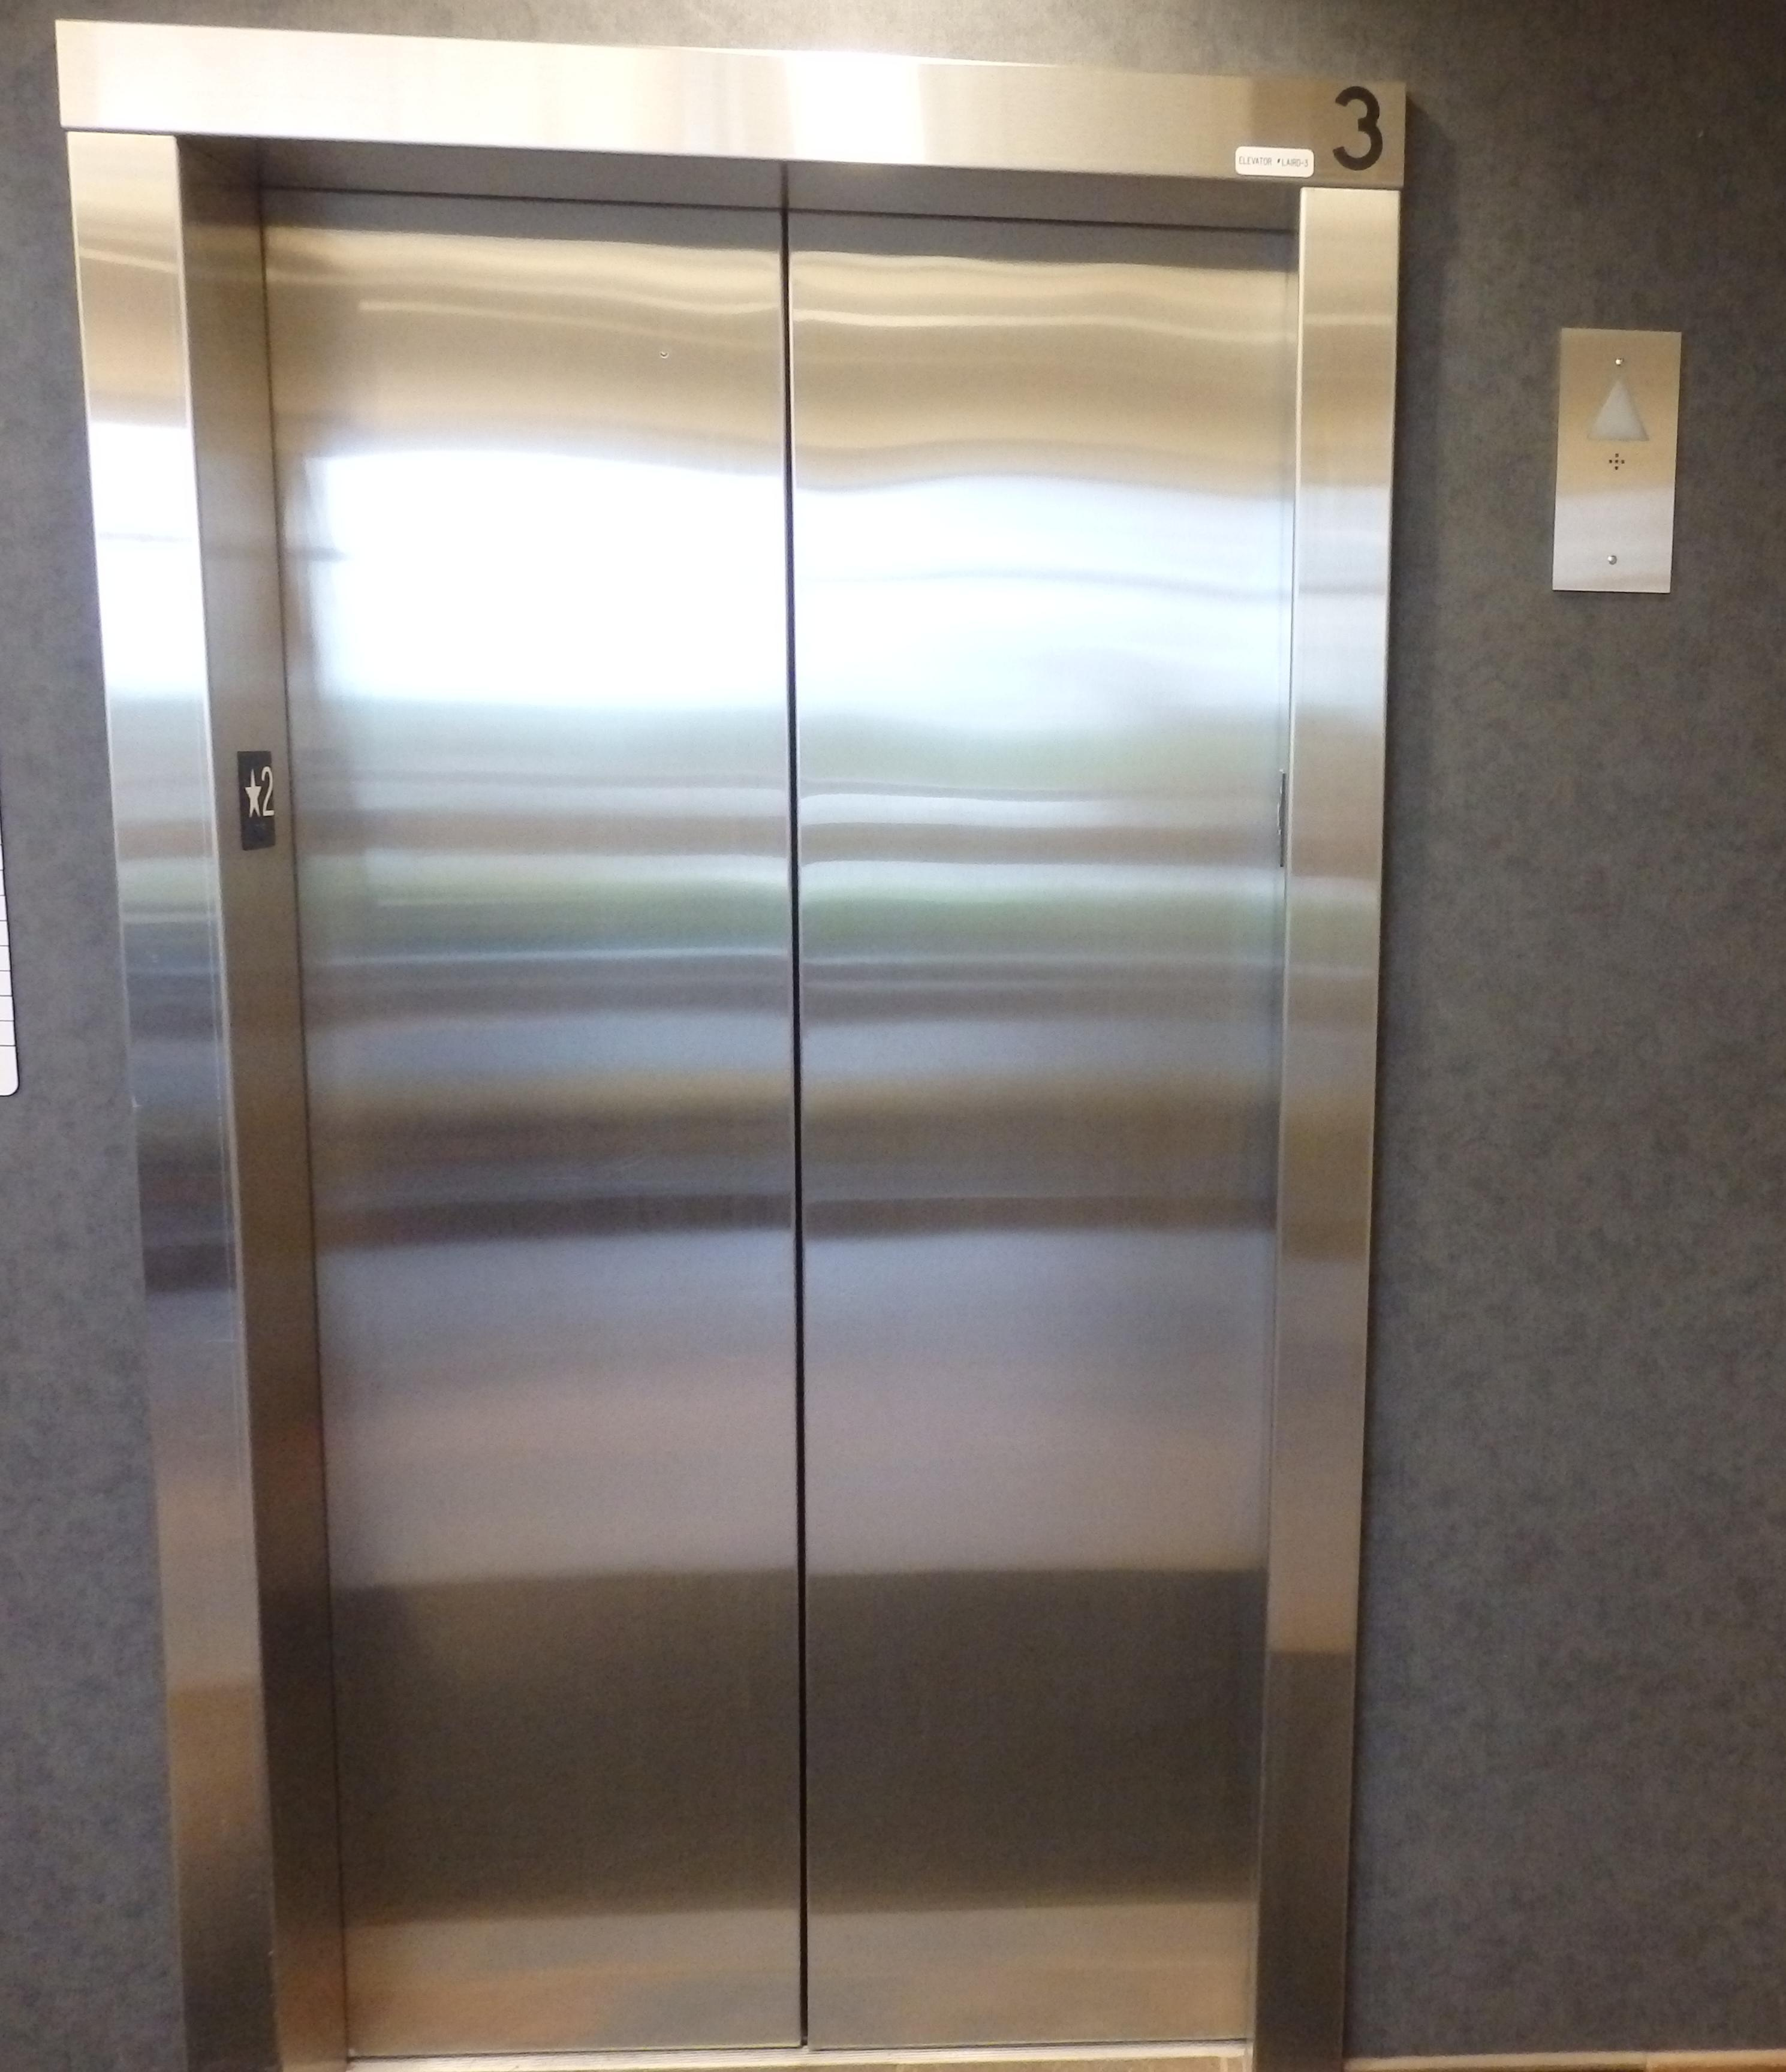door: (183, 113, 1296, 2072)
